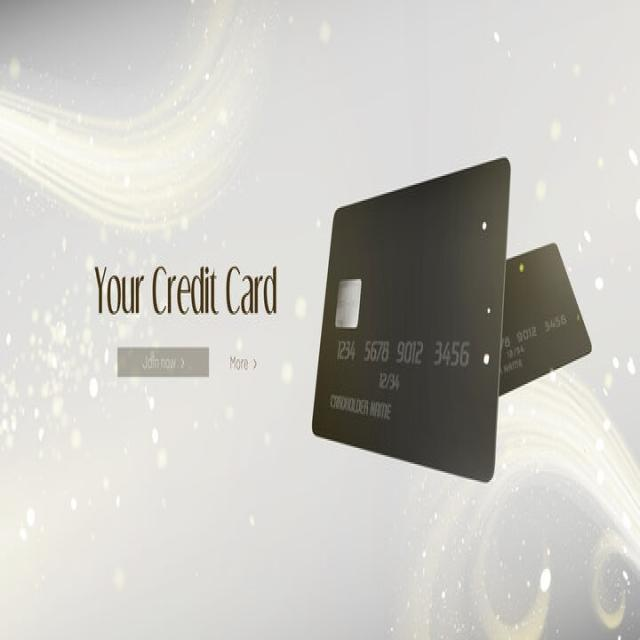payment_card: (310, 155, 512, 483)
